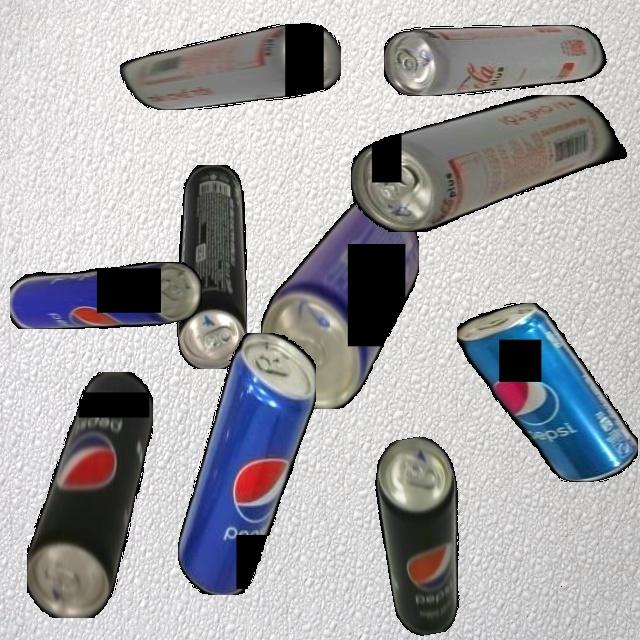debris: (351, 94, 627, 232), (177, 332, 316, 595), (260, 196, 419, 409), (456, 303, 638, 482), (26, 371, 153, 618), (367, 432, 481, 639), (119, 23, 341, 110), (384, 24, 609, 96), (176, 164, 247, 369), (9, 262, 202, 329)
